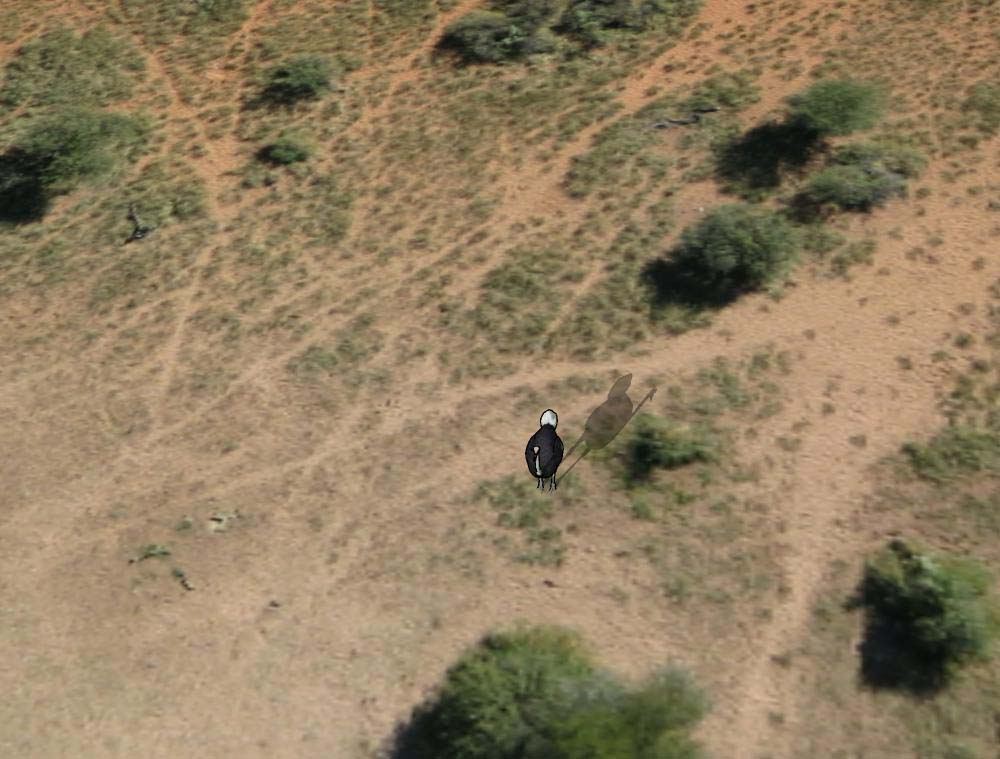ostrich: (520, 407, 568, 493)
